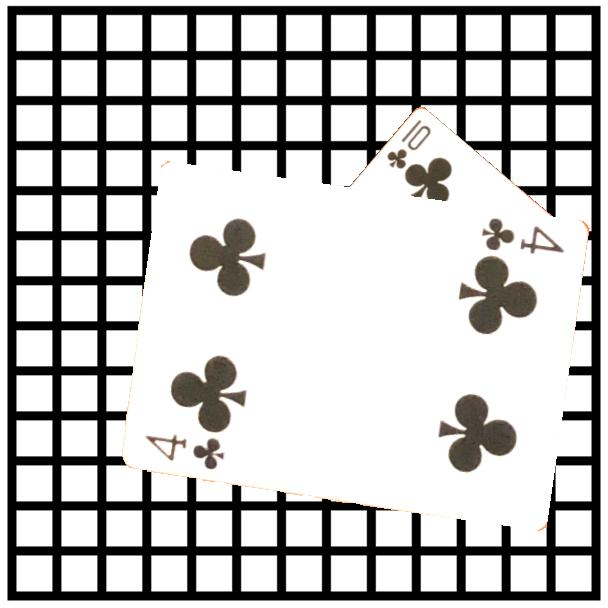c04: (479, 213, 568, 256), (142, 430, 228, 472)
c10: (383, 115, 434, 172)
